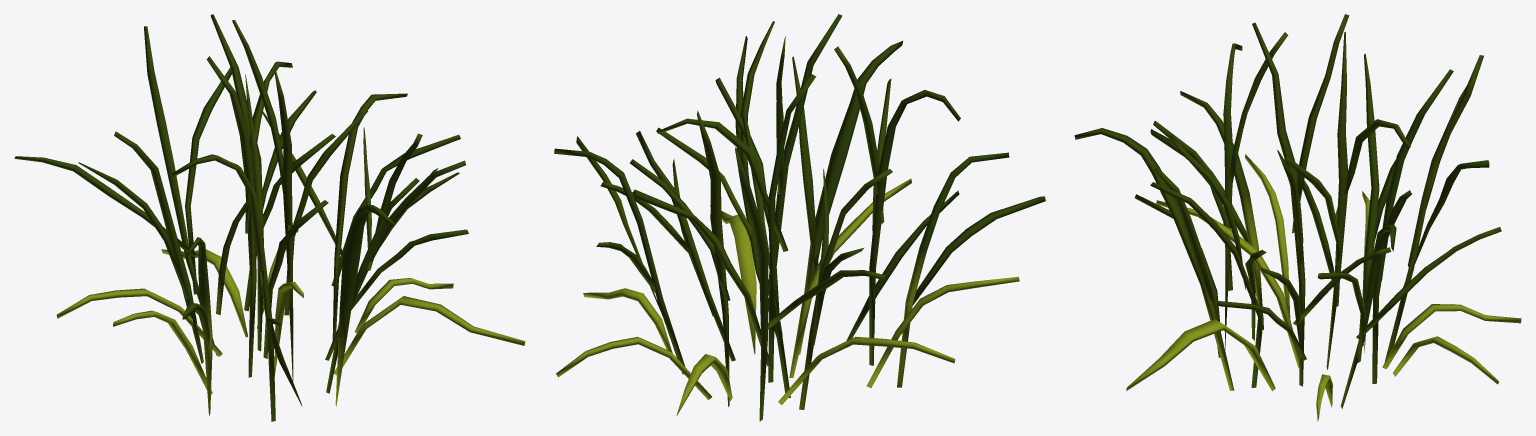
File: lowpoly_2.dae
3 renders of one model, left to right at view 1: azimuth 30°, elevation 25°; view 2: azimuth 150°, elevation 25°; view 3: azimuth 270°, elevation 25°, orthographic. The views are drawn at different scales.
Visible parts, largest first — view 1: Grass_Wild_B_spring-summer.001; view 2: Grass_Wild_B_spring-summer.001; view 3: Grass_Wild_B_spring-summer.001.
Boxes of the visible parts, left/top/right/bottom form: Grass_Wild_B_spring-summer.001: left=14, top=14, right=525, bottom=421; Grass_Wild_B_spring-summer.001: left=554, top=14, right=1045, bottom=421; Grass_Wild_B_spring-summer.001: left=1074, top=14, right=1521, bottom=421.
Bounding box in the file's own units: 0.4546 × 0.4583 × 0.4022.
